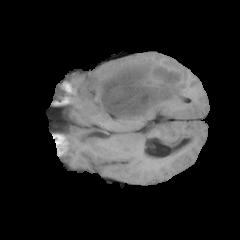glioma: (84, 56, 187, 120)
